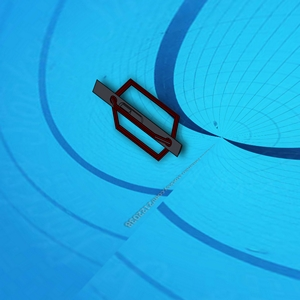submarine: (91, 77, 184, 157)
